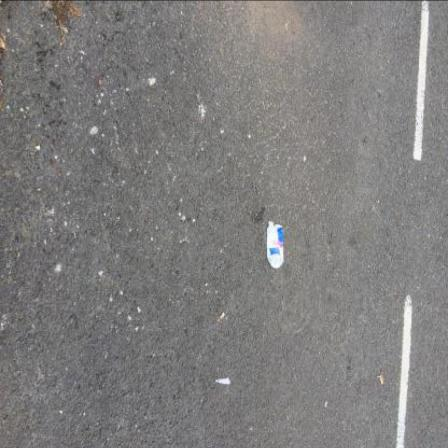Can: (269, 222, 286, 270)
Unlabeled litter: (217, 378, 232, 385)
